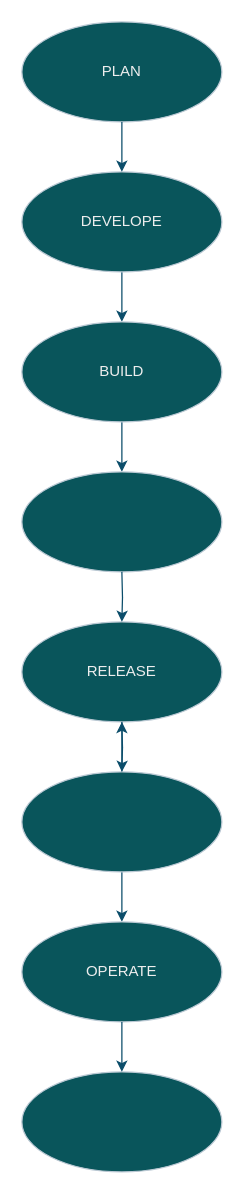
The diagram is 244 pixels wide and 1194 high, and some of its shapes have lost their labels. The shapes that lost their labels are listed below. From the top down, each one's centre as x and y in pixels, then its label:
At (121,521): "TEST".
At (121,821): "DEPLOY".
At (121,1121): "MONITOR".
